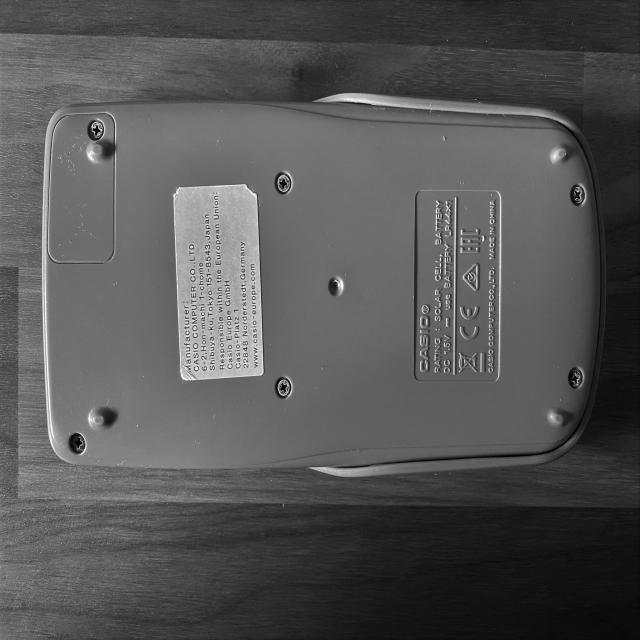PhillipsScrewHead: (89, 119, 104, 140), (276, 377, 291, 398), (568, 368, 583, 389), (570, 185, 585, 205), (277, 174, 291, 193), (71, 433, 85, 452)
